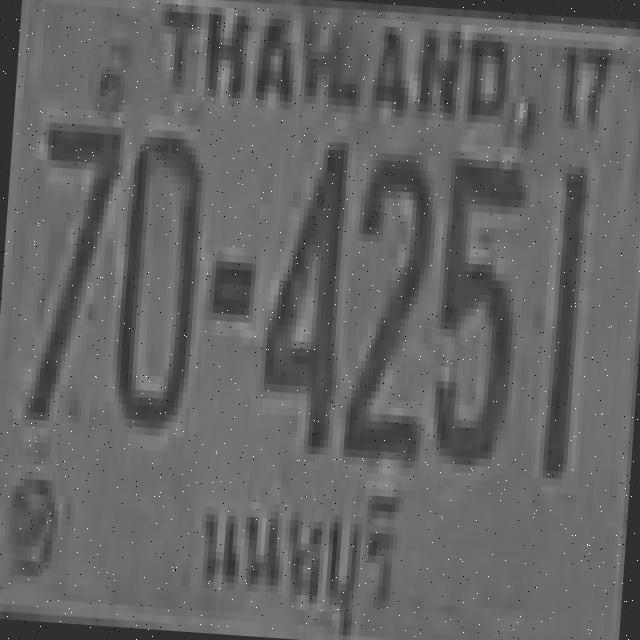0: (108, 124, 205, 426)
1: (538, 166, 583, 472)
2: (340, 144, 434, 460)
4: (251, 130, 349, 447)
5: (427, 150, 524, 460)
7: (24, 115, 121, 416)
Nonthaburi: (179, 453, 415, 640)
